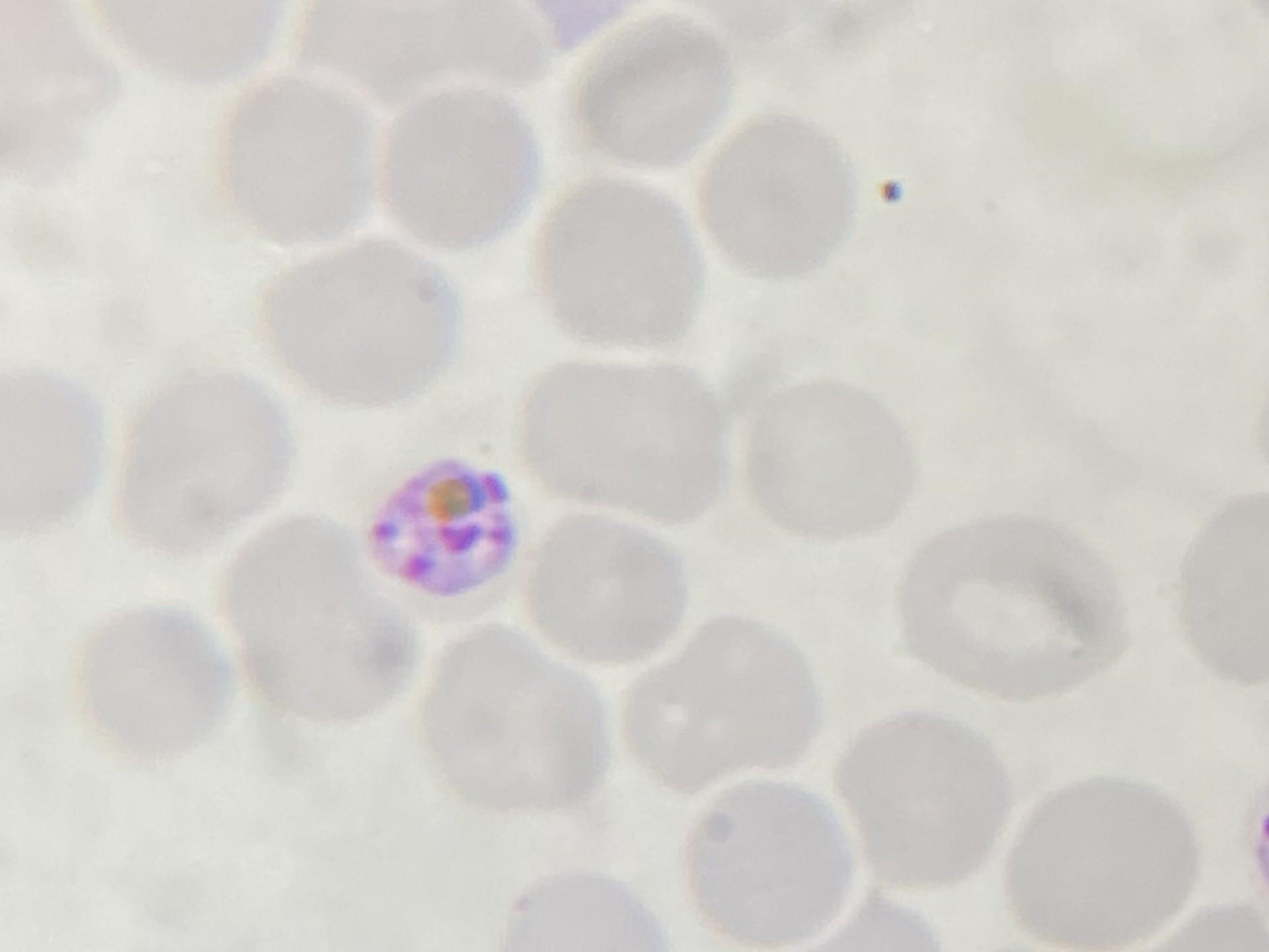Infected: (742, 337, 899, 498)
Uninfected: (854, 225, 1036, 442), (143, 254, 359, 424), (544, 421, 745, 600), (70, 0, 260, 179), (658, 135, 845, 316), (456, 155, 638, 338), (975, 392, 1144, 586), (810, 549, 1004, 712), (568, 602, 738, 781), (264, 62, 433, 241), (343, 408, 515, 580), (414, 672, 568, 849), (726, 707, 880, 872), (425, 0, 577, 166), (581, 282, 744, 435), (889, 712, 1040, 874), (1039, 183, 1181, 352), (533, 786, 698, 929)
